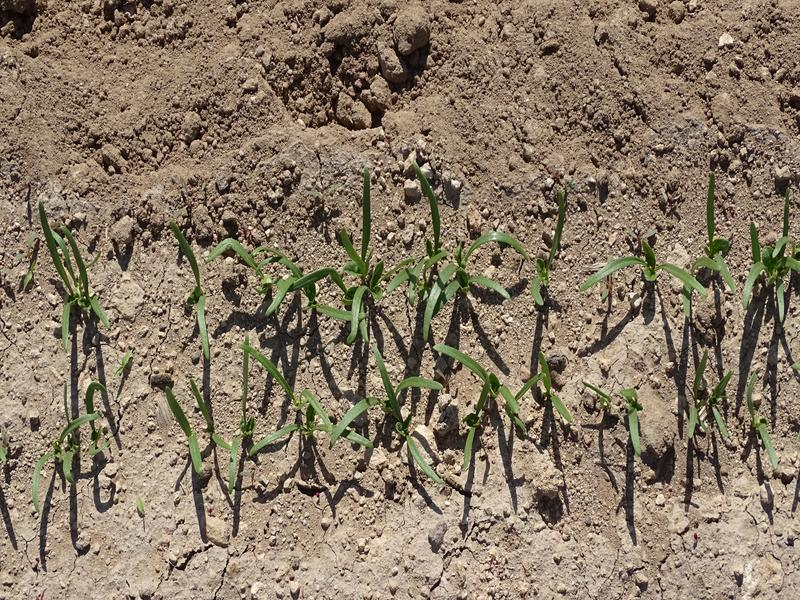Espinaca: (161, 342, 574, 492), (171, 212, 523, 339), (692, 183, 800, 315), (671, 356, 786, 463), (26, 377, 107, 508), (38, 205, 117, 338), (582, 233, 683, 301), (579, 379, 650, 459), (529, 187, 574, 304)
